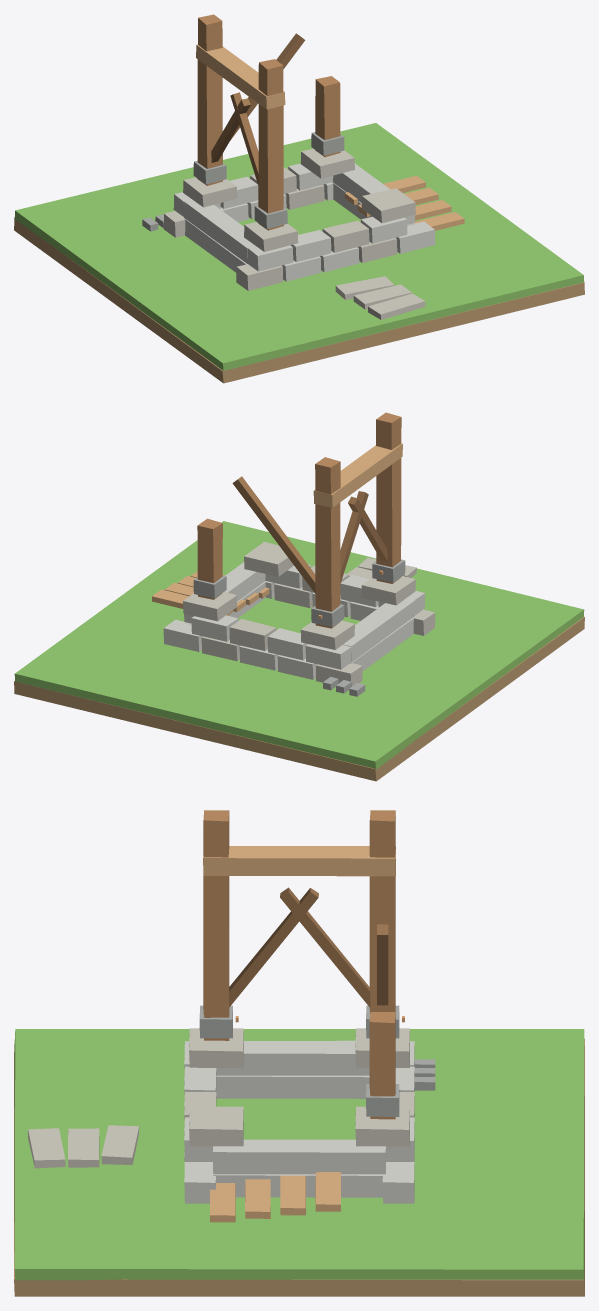
File: tower_l01_construction_LOD2.glb
The picture shows the model from 3 angles, top to bottom: view 1: azimuth 30°, elevation 25°; view 2: azimuth 150°, elevation 25°; view 3: azimuth 270°, elevation 25°; orthographic projection. The views are drawn at different scales.
Parts seen in each view (by area): view 1: tower_l01_grass_tile_tower_l01_construction_LOD2_tmp, tower_l01_earth_tile_tower_l01_construction_LOD2_tmp, upright_-0.58_-0.52_tower_l01_construction_LOD2_tmp, upright_-0.58_0.52_tower_l01_construction_LOD2_tmp, temporary_crossbar_tower_l01_construction_LOD2_tmp, plinth_return_1_-0.73_tower_l01_construction_LOD2_tmp, upright_0.58_0.52_tower_l01_construction_LOD2_tmp, stone_foot_0.58_-0.52_tower_l01_construction_LOD2_tmp, stone_foot_-0.58_0.52_tower_l01_construction_LOD2_tmp, stone_foot_0.58_0.52_tower_l01_construction_LOD2_tmp, plinth_return_1_0.73_tower_l01_construction_LOD2_tmp, stone_foot_-0.58_-0.52_tower_l01_construction_LOD2_tmp (+26 smaller); view 2: tower_l01_grass_tile_tower_l01_construction_LOD2_tmp, tower_l01_earth_tile_tower_l01_construction_LOD2_tmp, upright_-0.58_0.52_tower_l01_construction_LOD2_tmp, upright_-0.58_-0.52_tower_l01_construction_LOD2_tmp, temporary_crossbar_tower_l01_construction_LOD2_tmp, plinth_return_1_-0.73_tower_l01_construction_LOD2_tmp, upright_0.58_0.52_tower_l01_construction_LOD2_tmp, rear_brace_0.52_tower_l01_construction_LOD2_tmp, stone_foot_0.58_-0.52_tower_l01_construction_LOD2_tmp, stone_foot_0.58_0.52_tower_l01_construction_LOD2_tmp, stone_foot_-0.58_0.52_tower_l01_construction_LOD2_tmp, stone_foot_-0.58_-0.52_tower_l01_construction_LOD2_tmp (+20 smaller); view 3: tower_l01_grass_tile_tower_l01_construction_LOD2_tmp, tower_l01_earth_tile_tower_l01_construction_LOD2_tmp, plinth_return_1_0.73_tower_l01_construction_LOD2_tmp, temporary_crossbar_tower_l01_construction_LOD2_tmp, upright_-0.58_-0.52_tower_l01_construction_LOD2_tmp, plinth_return_1_-0.73_tower_l01_construction_LOD2_tmp, upright_-0.58_0.52_tower_l01_construction_LOD2_tmp, plinth_return_0_-0.73_tower_l01_construction_LOD2_tmp, upright_0.58_0.52_tower_l01_construction_LOD2_tmp, stone_foot_0.58_-0.52_tower_l01_construction_LOD2_tmp, plinth_return_0_0.73_tower_l01_construction_LOD2_tmp, stone_foot_0.58_0.52_tower_l01_construction_LOD2_tmp (+18 smaller).
Boxes of the visible parts, x1=… form: tower_l01_grass_tile_tower_l01_construction_LOD2_tmp: x1=14, y1=123, x2=584, y2=370; tower_l01_earth_tile_tower_l01_construction_LOD2_tmp: x1=14, y1=218, x2=584, y2=383; upright_-0.58_-0.52_tower_l01_construction_LOD2_tmp: x1=258, y1=59, x2=283, y2=230; upright_-0.58_0.52_tower_l01_construction_LOD2_tmp: x1=197, y1=14, x2=222, y2=185; temporary_crossbar_tower_l01_construction_LOD2_tmp: x1=196, y1=44, x2=285, y2=109; plinth_return_1_-0.73_tower_l01_construction_LOD2_tmp: x1=184, y1=199, x2=255, y2=263; upright_0.58_0.52_tower_l01_construction_LOD2_tmp: x1=315, y1=76, x2=340, y2=157; stone_foot_0.58_-0.52_tower_l01_construction_LOD2_tmp: x1=361, y1=188, x2=415, y2=223; stone_foot_-0.58_0.52_tower_l01_construction_LOD2_tmp: x1=183, y1=177, x2=237, y2=207; stone_foot_0.58_0.52_tower_l01_construction_LOD2_tmp: x1=300, y1=148, x2=354, y2=178; plinth_return_1_0.73_tower_l01_construction_LOD2_tmp: x1=333, y1=163, x2=414, y2=224; stone_foot_-0.58_-0.52_tower_l01_construction_LOD2_tmp: x1=244, y1=222, x2=298, y2=251; tower_l01_grass_tile_tower_l01_construction_LOD2_tmp: x1=14, y1=521, x2=584, y2=769; tower_l01_earth_tile_tower_l01_construction_LOD2_tmp: x1=14, y1=617, x2=584, y2=781; upright_-0.58_0.52_tower_l01_construction_LOD2_tmp: x1=315, y1=457, x2=340, y2=628; upright_-0.58_-0.52_tower_l01_construction_LOD2_tmp: x1=376, y1=412, x2=401, y2=583; temporary_crossbar_tower_l01_construction_LOD2_tmp: x1=313, y1=443, x2=402, y2=507; plinth_return_1_-0.73_tower_l01_construction_LOD2_tmp: x1=343, y1=598, x2=414, y2=662; upright_0.58_0.52_tower_l01_construction_LOD2_tmp: x1=197, y1=518, x2=222, y2=599; rear_brace_0.52_tower_l01_construction_LOD2_tmp: x1=232, y1=476, x2=315, y2=593; stone_foot_0.58_-0.52_tower_l01_construction_LOD2_tmp: x1=244, y1=541, x2=298, y2=576; stone_foot_0.58_0.52_tower_l01_construction_LOD2_tmp: x1=183, y1=592, x2=237, y2=621; stone_foot_-0.58_0.52_tower_l01_construction_LOD2_tmp: x1=300, y1=620, x2=354, y2=649; stone_foot_-0.58_-0.52_tower_l01_construction_LOD2_tmp: x1=361, y1=576, x2=415, y2=605; tower_l01_grass_tile_tower_l01_construction_LOD2_tmp: x1=14, y1=1029, x2=584, y2=1280; tower_l01_earth_tile_tower_l01_construction_LOD2_tmp: x1=14, y1=1038, x2=584, y2=1296; plinth_return_1_0.73_tower_l01_construction_LOD2_tmp: x1=213, y1=1139, x2=385, y2=1174; temporary_crossbar_tower_l01_construction_LOD2_tmp: x1=203, y1=846, x2=395, y2=876; upright_-0.58_-0.52_tower_l01_construction_LOD2_tmp: x1=203, y1=810, x2=229, y2=1040; plinth_return_1_-0.73_tower_l01_construction_LOD2_tmp: x1=216, y1=1040, x2=369, y2=1075; upright_-0.58_0.52_tower_l01_construction_LOD2_tmp: x1=369, y1=810, x2=395, y2=1013; plinth_return_0_-0.73_tower_l01_construction_LOD2_tmp: x1=216, y1=1075, x2=369, y2=1098; upright_0.58_0.52_tower_l01_construction_LOD2_tmp: x1=369, y1=1012, x2=395, y2=1119; stone_foot_0.58_-0.52_tower_l01_construction_LOD2_tmp: x1=189, y1=1106, x2=243, y2=1146; plinth_return_0_0.73_tower_l01_construction_LOD2_tmp: x1=213, y1=1171, x2=385, y2=1197; stone_foot_0.58_0.52_tower_l01_construction_LOD2_tmp: x1=355, y1=1106, x2=409, y2=1146.
Size of the model in its own units: 3.57 by 2.22 by 3.57.
